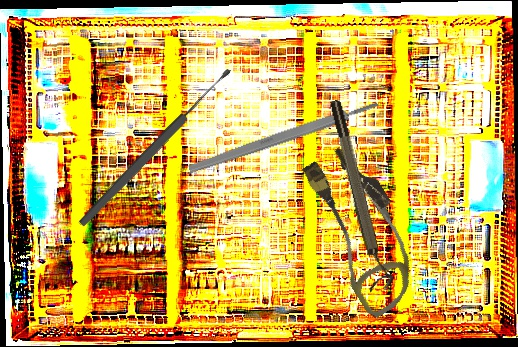Cannula: (284, 138, 440, 321)
Fixation Ring: (326, 96, 396, 294)
Scalpel Handle: (187, 98, 380, 176)
Surgical Spoon: (76, 65, 235, 230)
